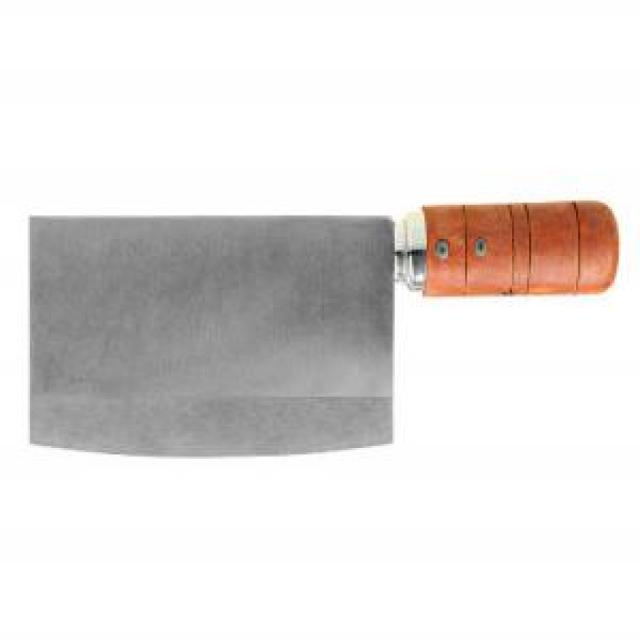knife: (26, 198, 628, 460)
